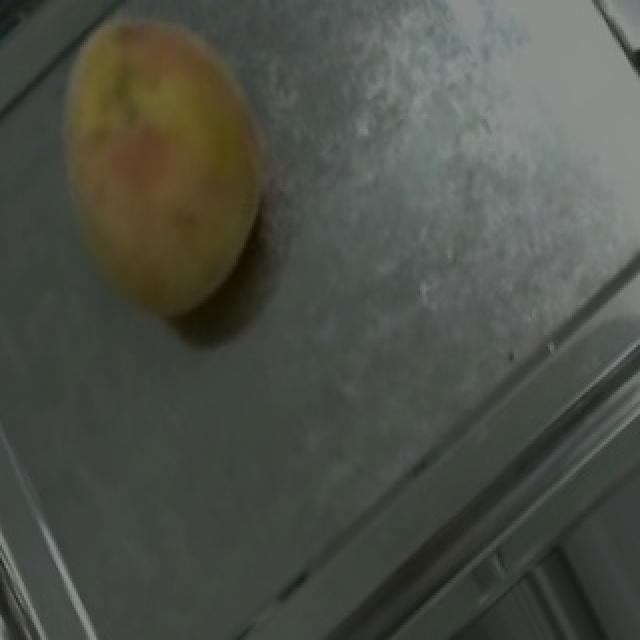Fruit: (8, 0, 314, 355)
